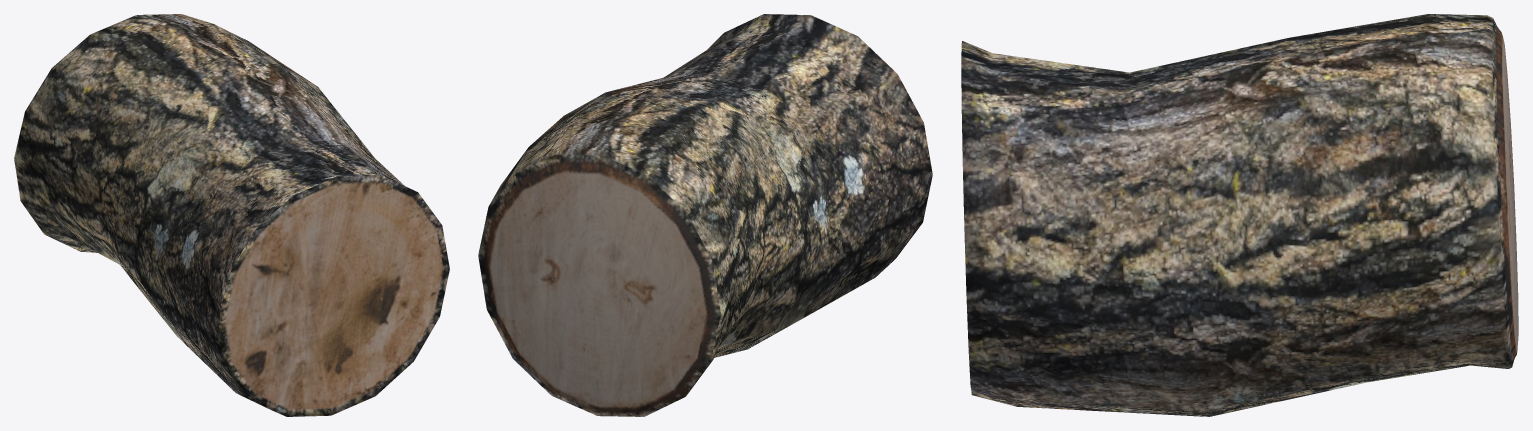
The model's file is log4.fbx.
3 views of the same model, side by side, from view 1: azimuth 30°, elevation 25°; view 2: azimuth 150°, elevation 25°; view 3: azimuth 270°, elevation 25° (orthographic). The views are drawn at different scales.
Parts seen in each view (by area): view 1: Log02; view 2: Log02; view 3: Log02.
Part boxes in pixels (x1,y1,x2,y2): Log02: [14, 14, 449, 416]; Log02: [478, 14, 932, 416]; Log02: [961, 14, 1518, 416].
Size of the model in its own units: 1.54 by 2.2 by 1.57.
Materials: 1 (1 with a texture image).
